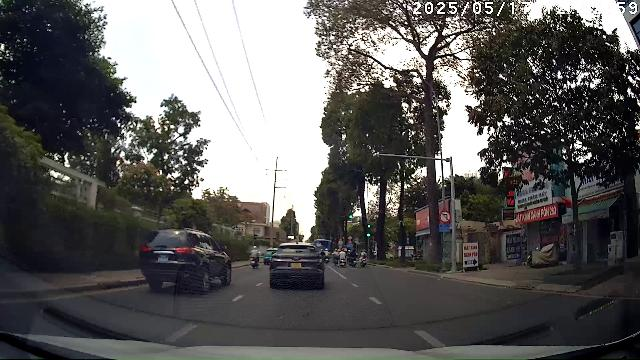123a-cam-re-trai: (439, 210, 451, 224)
